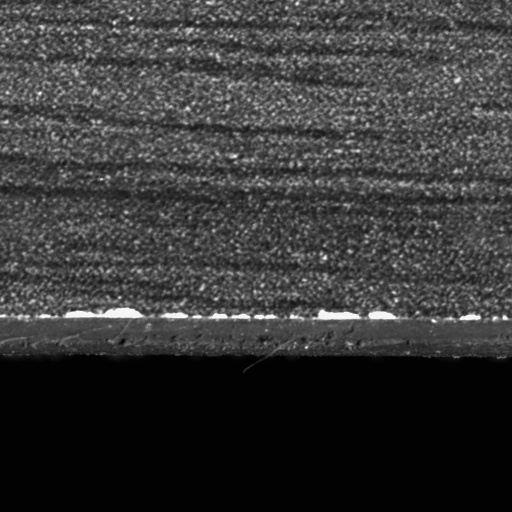huashang: (64, 307, 144, 320), (163, 311, 277, 320), (319, 309, 397, 321)
